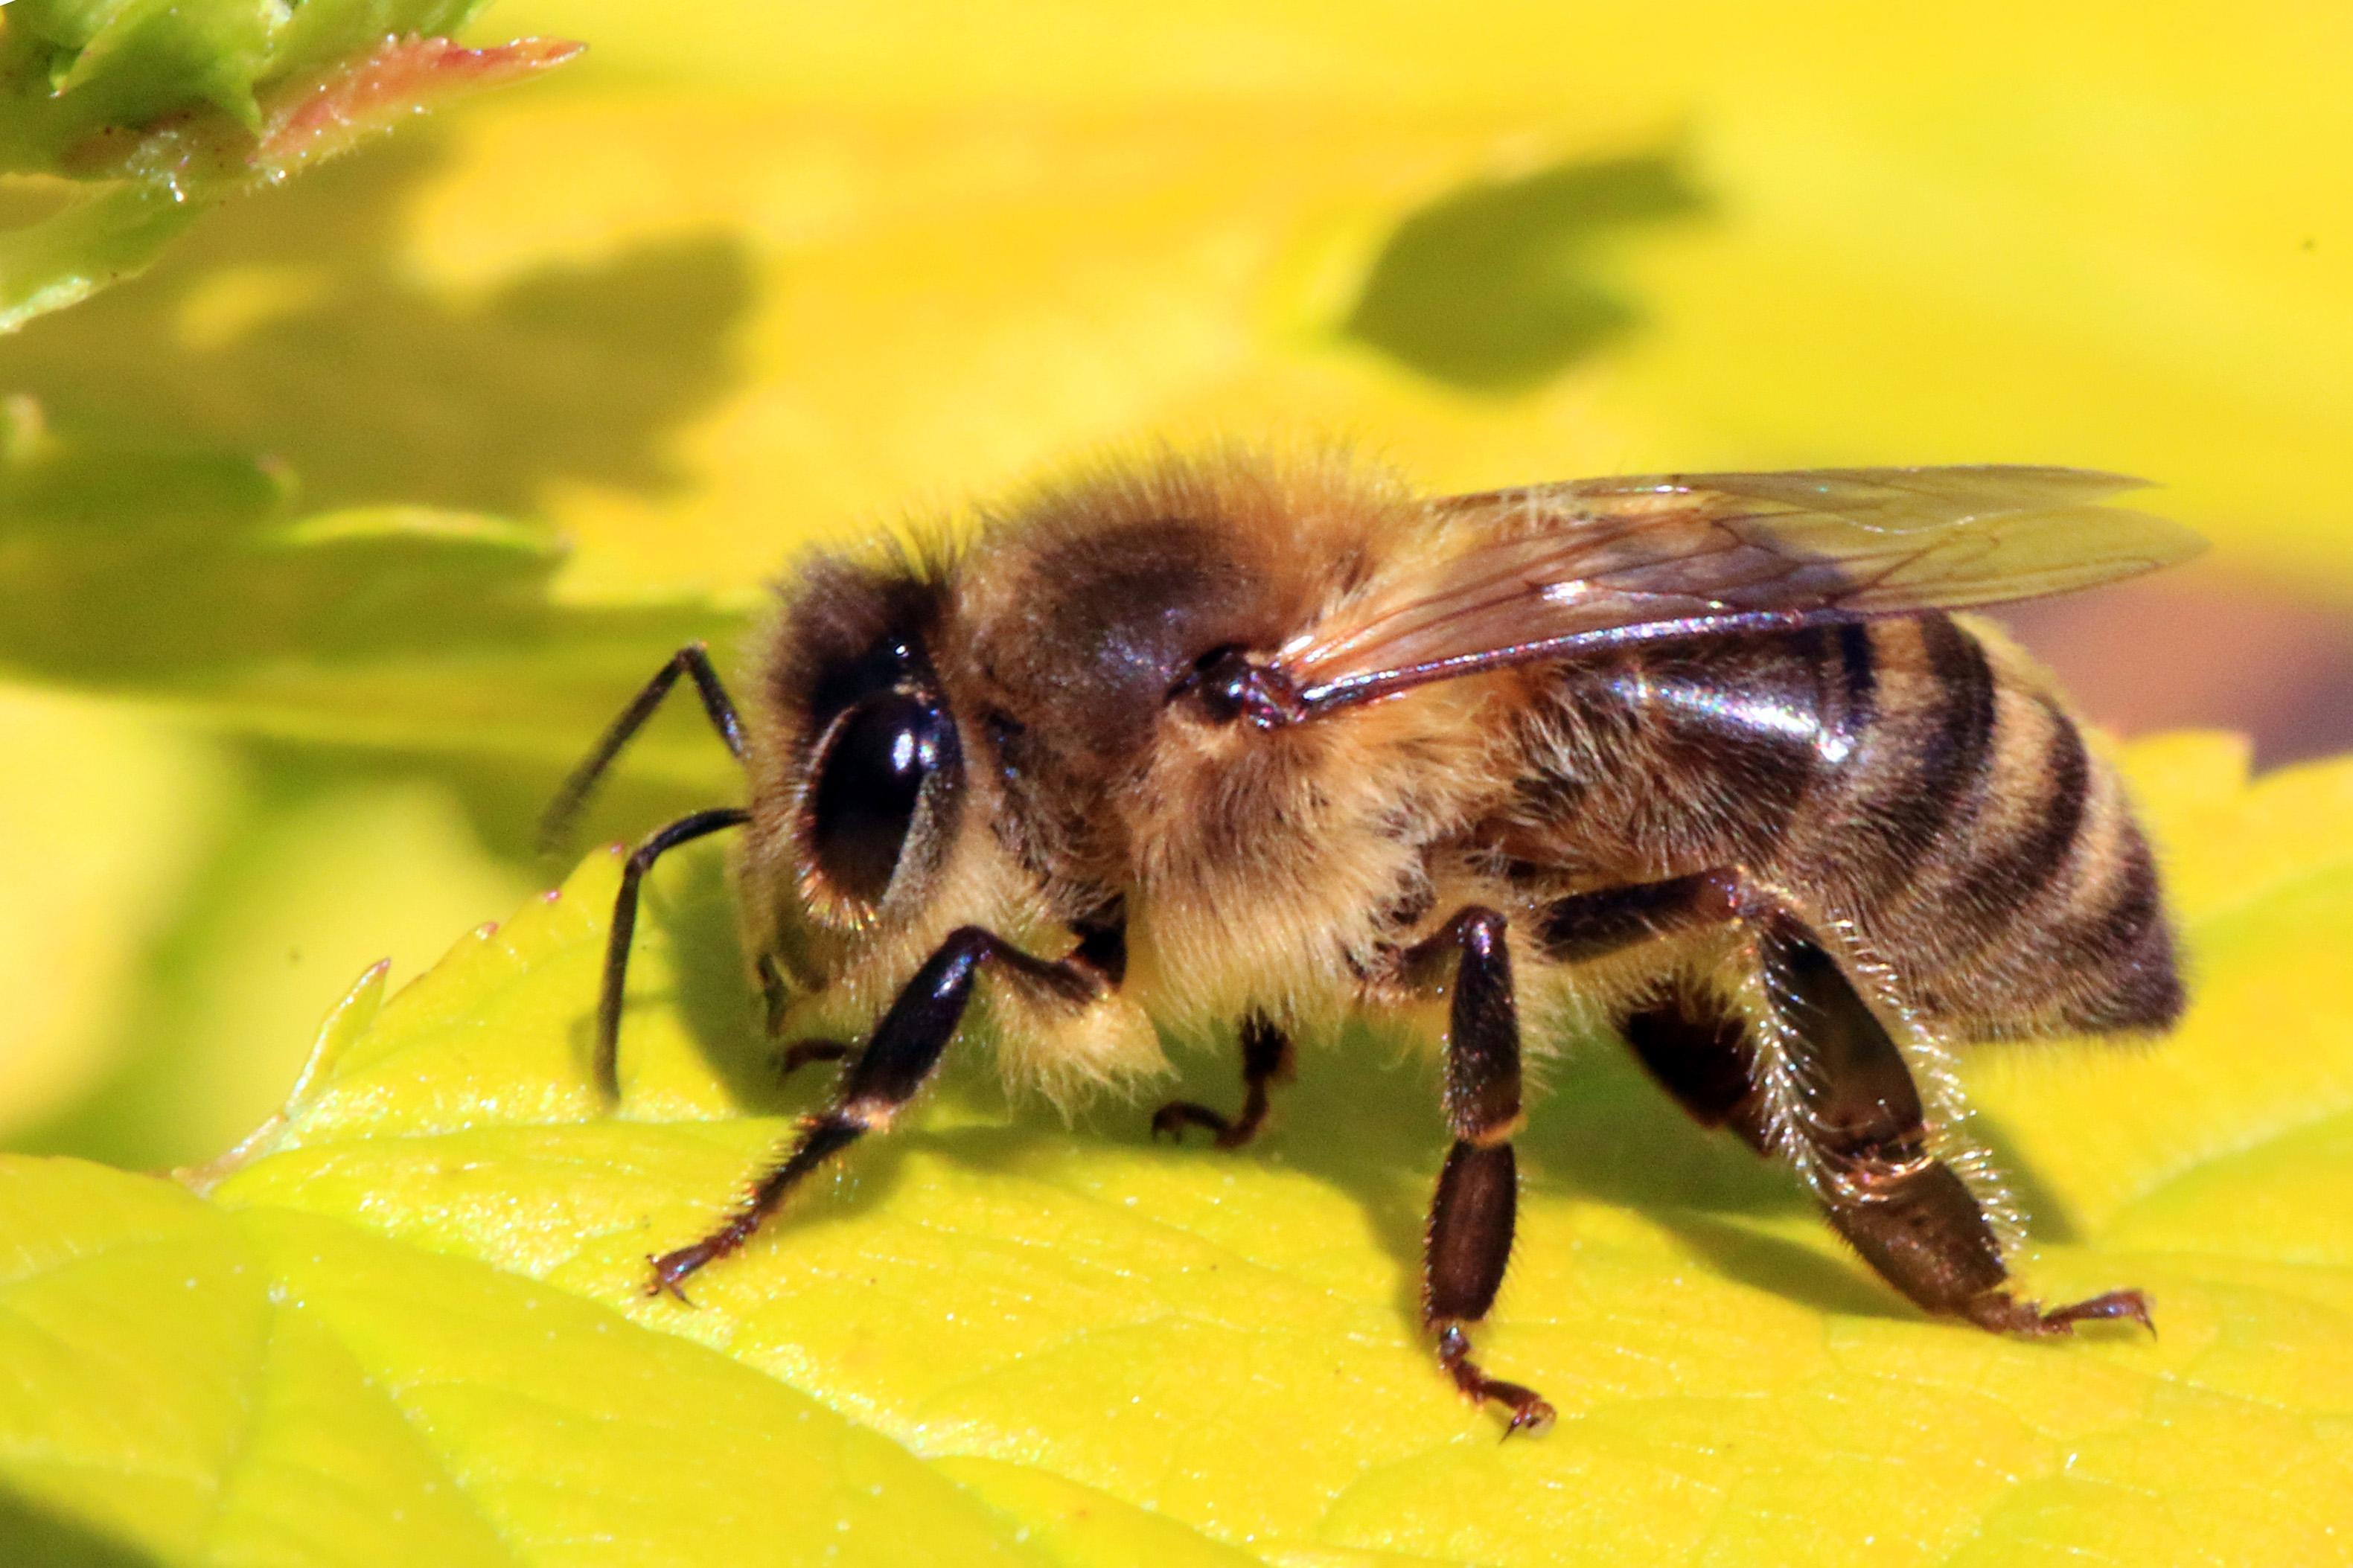Apis-mellifera-scutellata: (467, 366, 2291, 1476)
